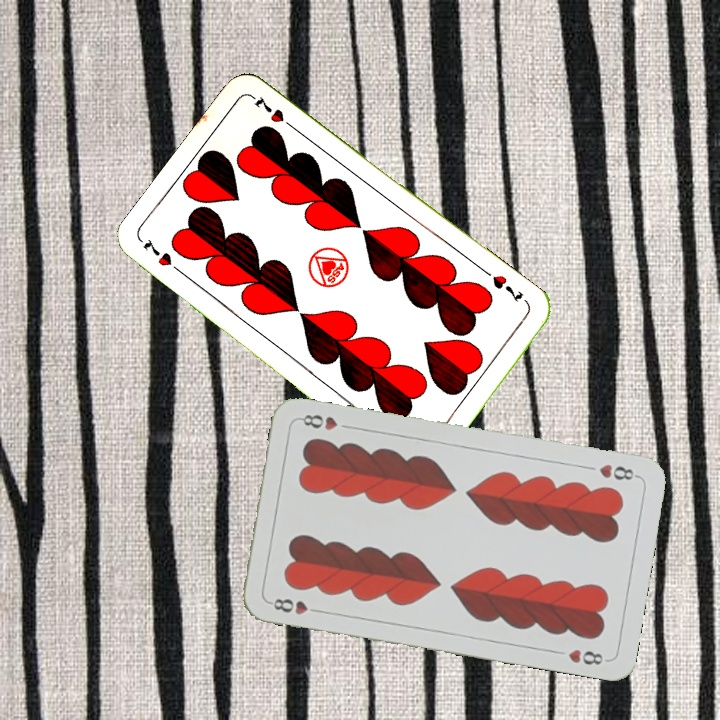H7: (138, 235, 188, 278), (488, 271, 526, 306)
H8: (265, 594, 324, 617), (595, 460, 641, 483)
